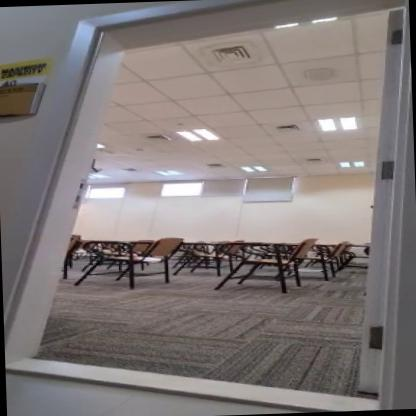open: (54, 4, 414, 415)
